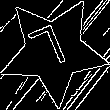L_SE: (30, 21, 77, 80)
